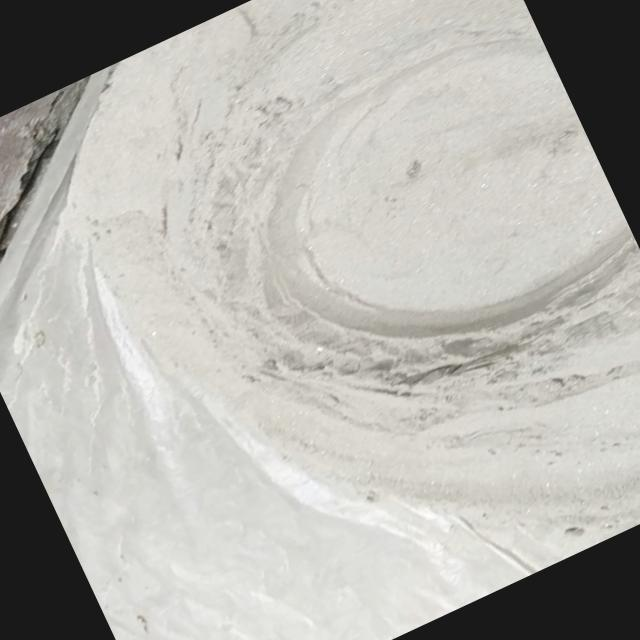C40: (265, 42, 632, 337)
